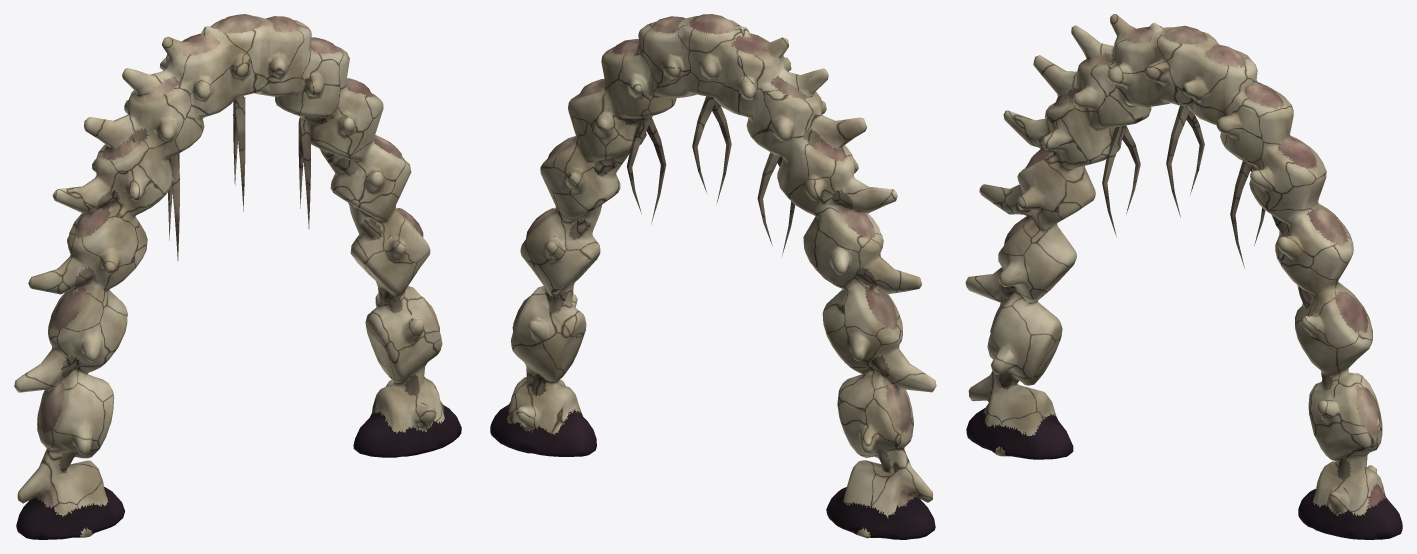
The model's file is columna_vertebral_arco.fbx.
The picture shows the model from 3 angles, left to right: view 1: azimuth 30°, elevation 25°; view 2: azimuth 150°, elevation 25°; view 3: azimuth 330°, elevation 25°; orthographic projection. The views are drawn at different scales.
Parts seen in each view (by area): view 1: arco; view 2: arco; view 3: arco.
Boxes of the visible parts, x1=… form: arco: x1=14, y1=14, x2=461, y2=539; arco: x1=490, y1=14, x2=936, y2=539; arco: x1=965, y1=14, x2=1402, y2=539.
Bounding box in the file's own units: 6.01 × 6 × 1.01.
Materials: 1 (1 with a texture image).
